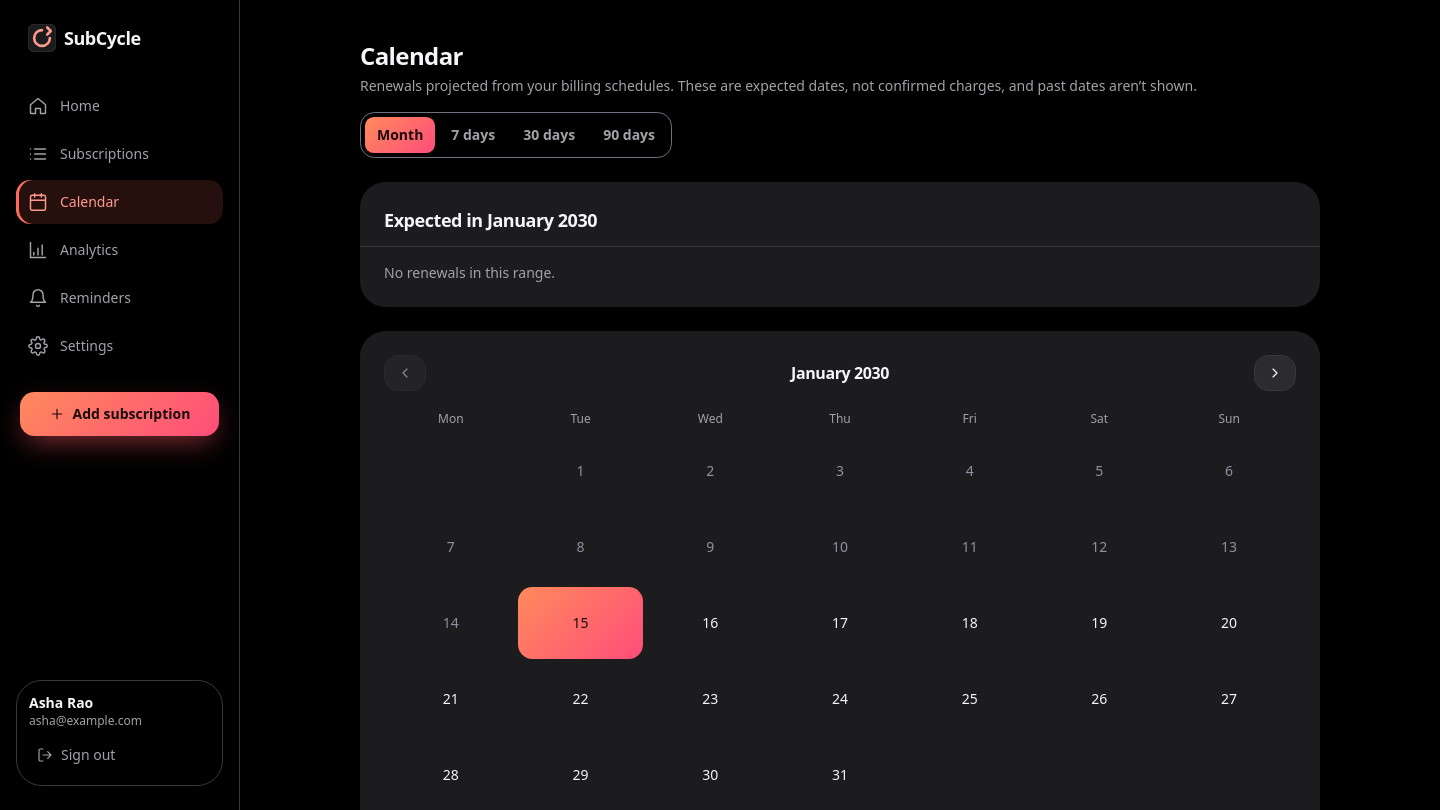
calendar page › next month / Today buttons re-request the right range
The image size is (1440, 810).
What coordinates should you click on to do the following:
click the button named "Next month"
I would click on:
 (1275, 373)
Its box is [1254,355,1296,391].
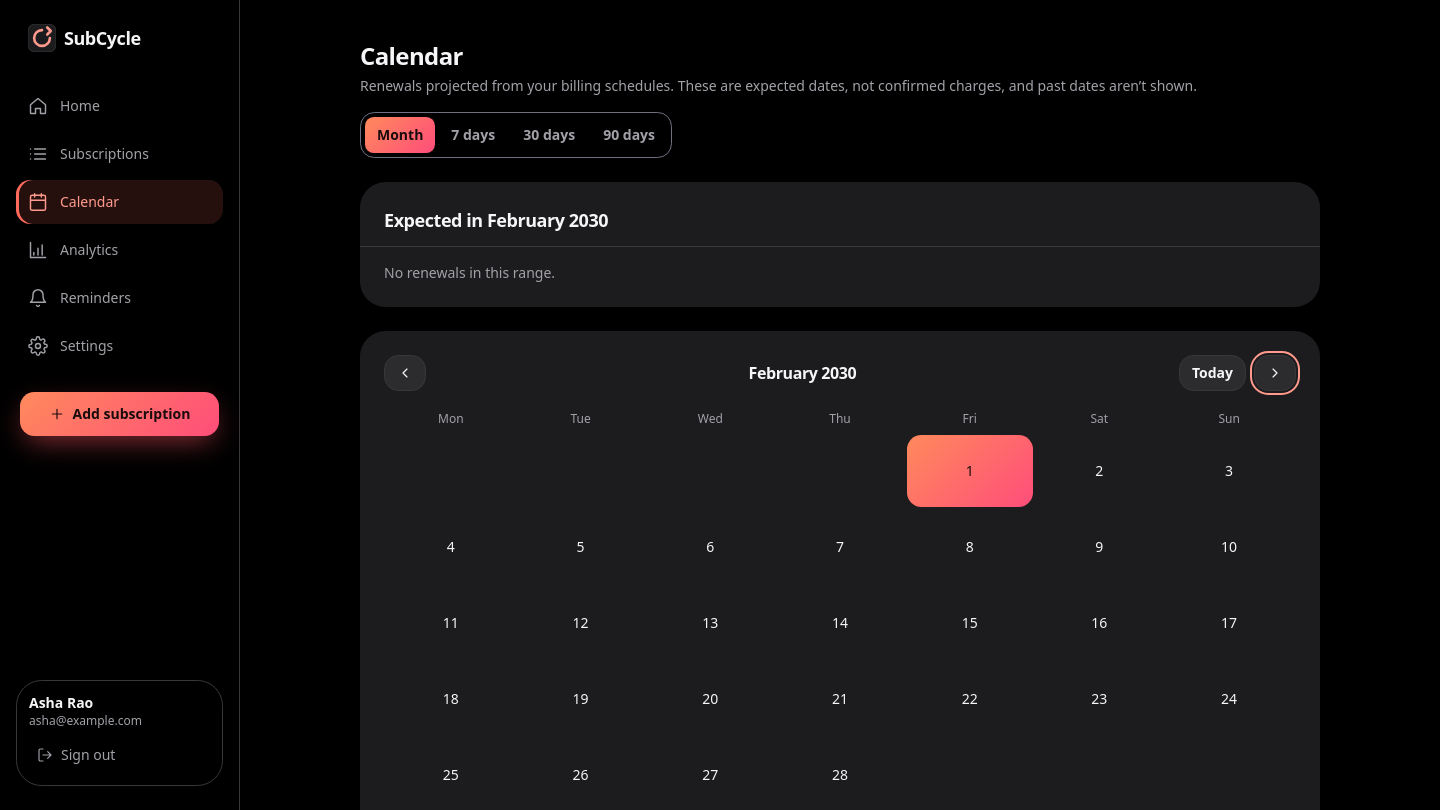
Expected: the heading "February 2030" is shown, [749,361,856,385]
What coordinates should you click on to do the following:
click the button "Today"
I would click on:
 (1212, 373)
Its box is [1179,355,1246,391].
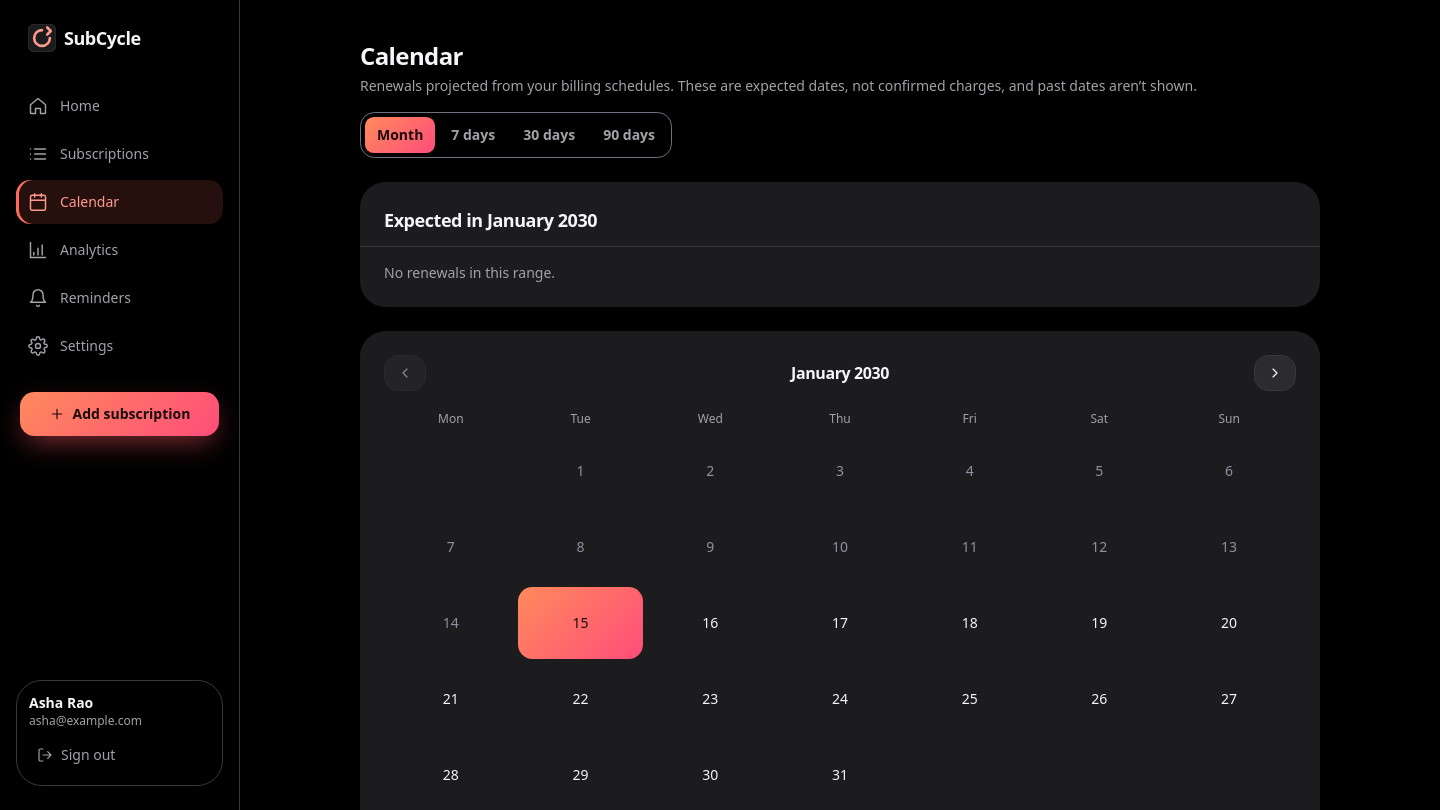
Expected: the heading "January 2030" is shown, [791,361,889,385]
